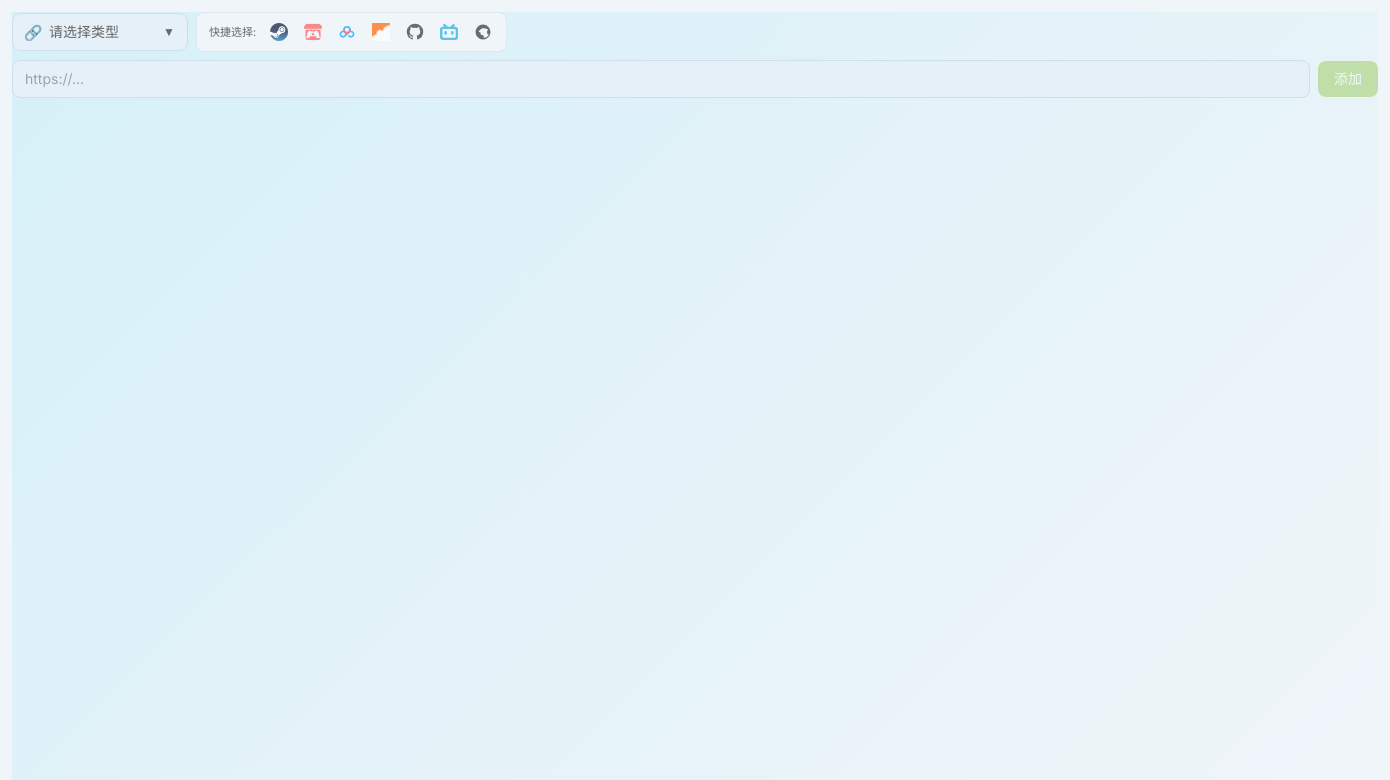
Test: ProjectLinksEditor › automatically splits pasted URL containing pwd parameter into password box
The image size is (1390, 780).
// Select Lanzou
Click the button named "蓝奏云" at (381, 32), box [366,17,396,47]
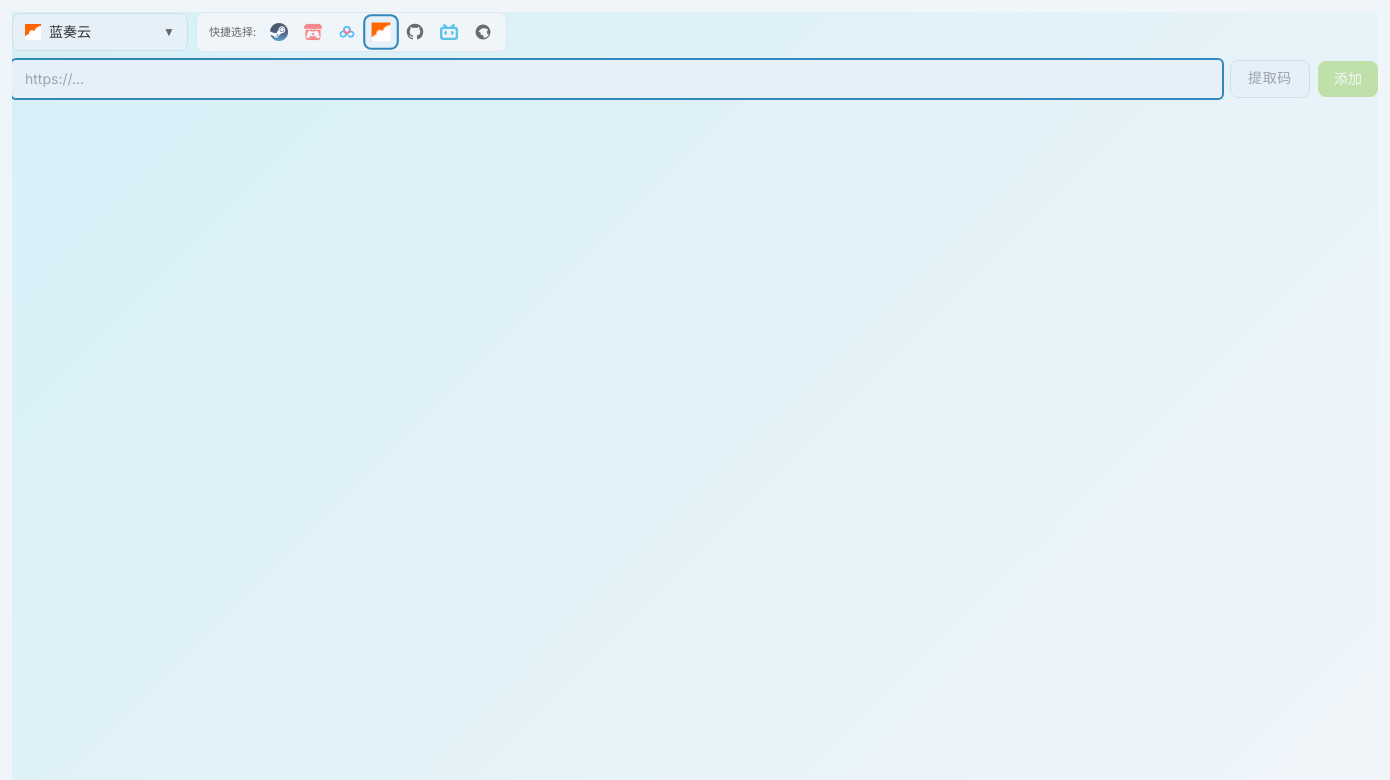
Type "https://www.lanzoui.com/b12345?pwd=9999" into the field with placeholder "https://..." at (617, 79), box [12,60,1222,98]
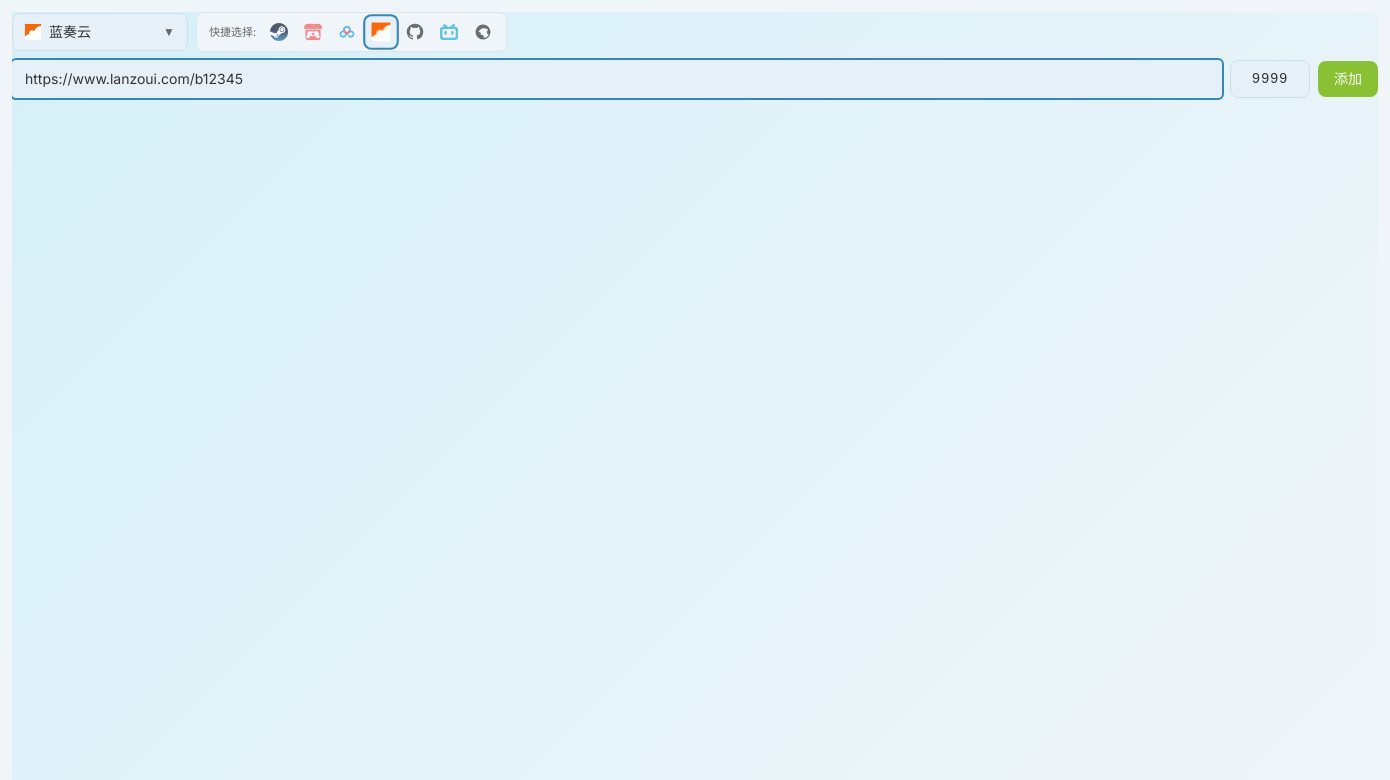
Expected: the field with placeholder "提取码" holds "9999", [1230,60,1310,98]
Expected: the field with placeholder "https://..." holds "https://www.lanzoui.com/b12345", [12,60,1222,98]
